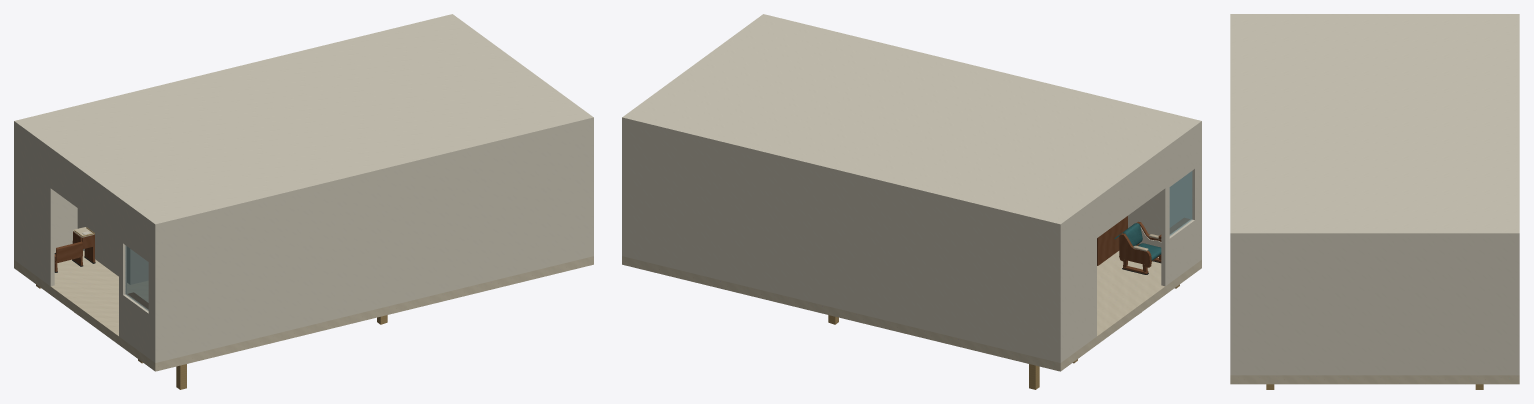
Rendered from NightGardenD15Specialty_428_r001.glb.
The picture shows the model from 3 angles, left to right: view 1: azimuth 30°, elevation 25°; view 2: azimuth 150°, elevation 25°; view 3: azimuth 270°, elevation 25°; orthographic projection. The views are drawn at different scales.
Parts seen in each view (by area): view 1: NG428_Ceiling, NG428_NorthSide, NG428_RoomFloor, NG428_EntryShoulderSouth, NG428_EntryHeader, NG428_StreetWindowLower, NG428_WashEntrySide, NG428_SouthSide, NG428_StreetWindowUpper, NG428_ScreenedStreetGlass; view 2: NG428_Ceiling, NG428_SouthSide, NG428_RoomFloor, NG428_EntryShoulderSouth, NG428_EntryHeader, NG428_NorthSide, NG428_StreetWindowLower, NG428_StreetWindowUpper, NG428_ScreenedStreetGlass, NG428_EntryPrivacyDogleg, NG428_StreetReadingChair__DAY_CHAIR_R_swept_walnut_cheek; view 3: NG428_Ceiling, NG428_OpaqueRearBoundary, NG428_RoomFloor, NG428_NorthSide, NG428_SouthSide.
Part boxes in pixels (bbox=[...]): NG428_Ceiling: bbox=[14, 14, 593, 229]; NG428_NorthSide: bbox=[153, 123, 593, 362]; NG428_RoomFloor: bbox=[14, 250, 593, 371]; NG428_EntryShoulderSouth: bbox=[16, 128, 54, 286]; NG428_EntryHeader: bbox=[49, 153, 119, 238]; NG428_StreetWindowLower: bbox=[119, 292, 152, 360]; NG428_WashEntrySide: bbox=[77, 208, 133, 284]; NG428_SouthSide: bbox=[14, 127, 77, 260]; NG428_StreetWindowUpper: bbox=[119, 204, 152, 264]; NG428_ScreenedStreetGlass: bbox=[125, 245, 148, 310]; NG428_Ceiling: bbox=[622, 14, 1201, 229]; NG428_SouthSide: bbox=[622, 123, 1062, 362]; NG428_RoomFloor: bbox=[622, 251, 1201, 371]; NG428_EntryShoulderSouth: bbox=[1063, 204, 1096, 360]; NG428_EntryHeader: bbox=[1096, 152, 1166, 238]; NG428_NorthSide: bbox=[1128, 127, 1201, 260]; NG428_StreetWindowLower: bbox=[1161, 217, 1199, 286]; NG428_StreetWindowUpper: bbox=[1163, 128, 1199, 190]; NG428_ScreenedStreetGlass: bbox=[1169, 171, 1192, 235]; NG428_EntryPrivacyDogleg: bbox=[1097, 216, 1127, 265]; NG428_StreetReadingChair__DAY_CHAIR_R_swept_walnut_cheek: bbox=[1119, 233, 1151, 267]; NG428_Ceiling: bbox=[1230, 14, 1519, 238]; NG428_OpaqueRearBoundary: bbox=[1235, 239, 1514, 375]; NG428_RoomFloor: bbox=[1230, 375, 1519, 384]; NG428_NorthSide: bbox=[1230, 239, 1234, 375]; NG428_SouthSide: bbox=[1515, 239, 1519, 375].
Size of the model in its own units: 12.9 by 5.31 by 7.2.
64 materials, 49 textured.
